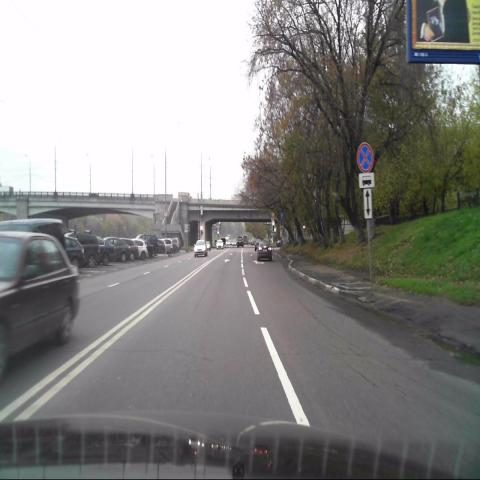8_2_4: (364, 188, 373, 218)
8_4_4: (358, 173, 374, 188)
